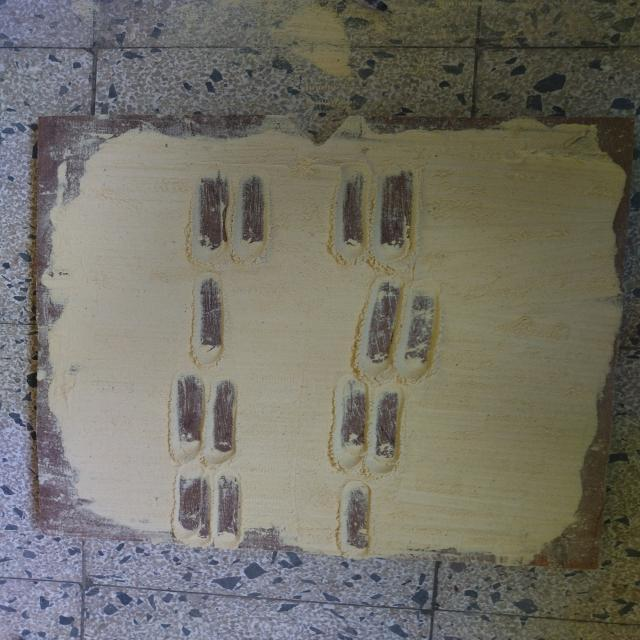double: (328, 156, 426, 272), (347, 270, 446, 384), (181, 161, 278, 273), (326, 371, 409, 478), (164, 366, 242, 468), (168, 462, 250, 550)
single: (184, 274, 234, 368), (334, 473, 382, 559)
